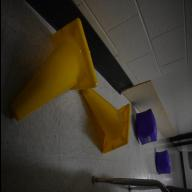cone: (9, 18, 97, 122), (81, 88, 129, 154)
cube: (134, 108, 156, 146), (154, 150, 170, 175)
